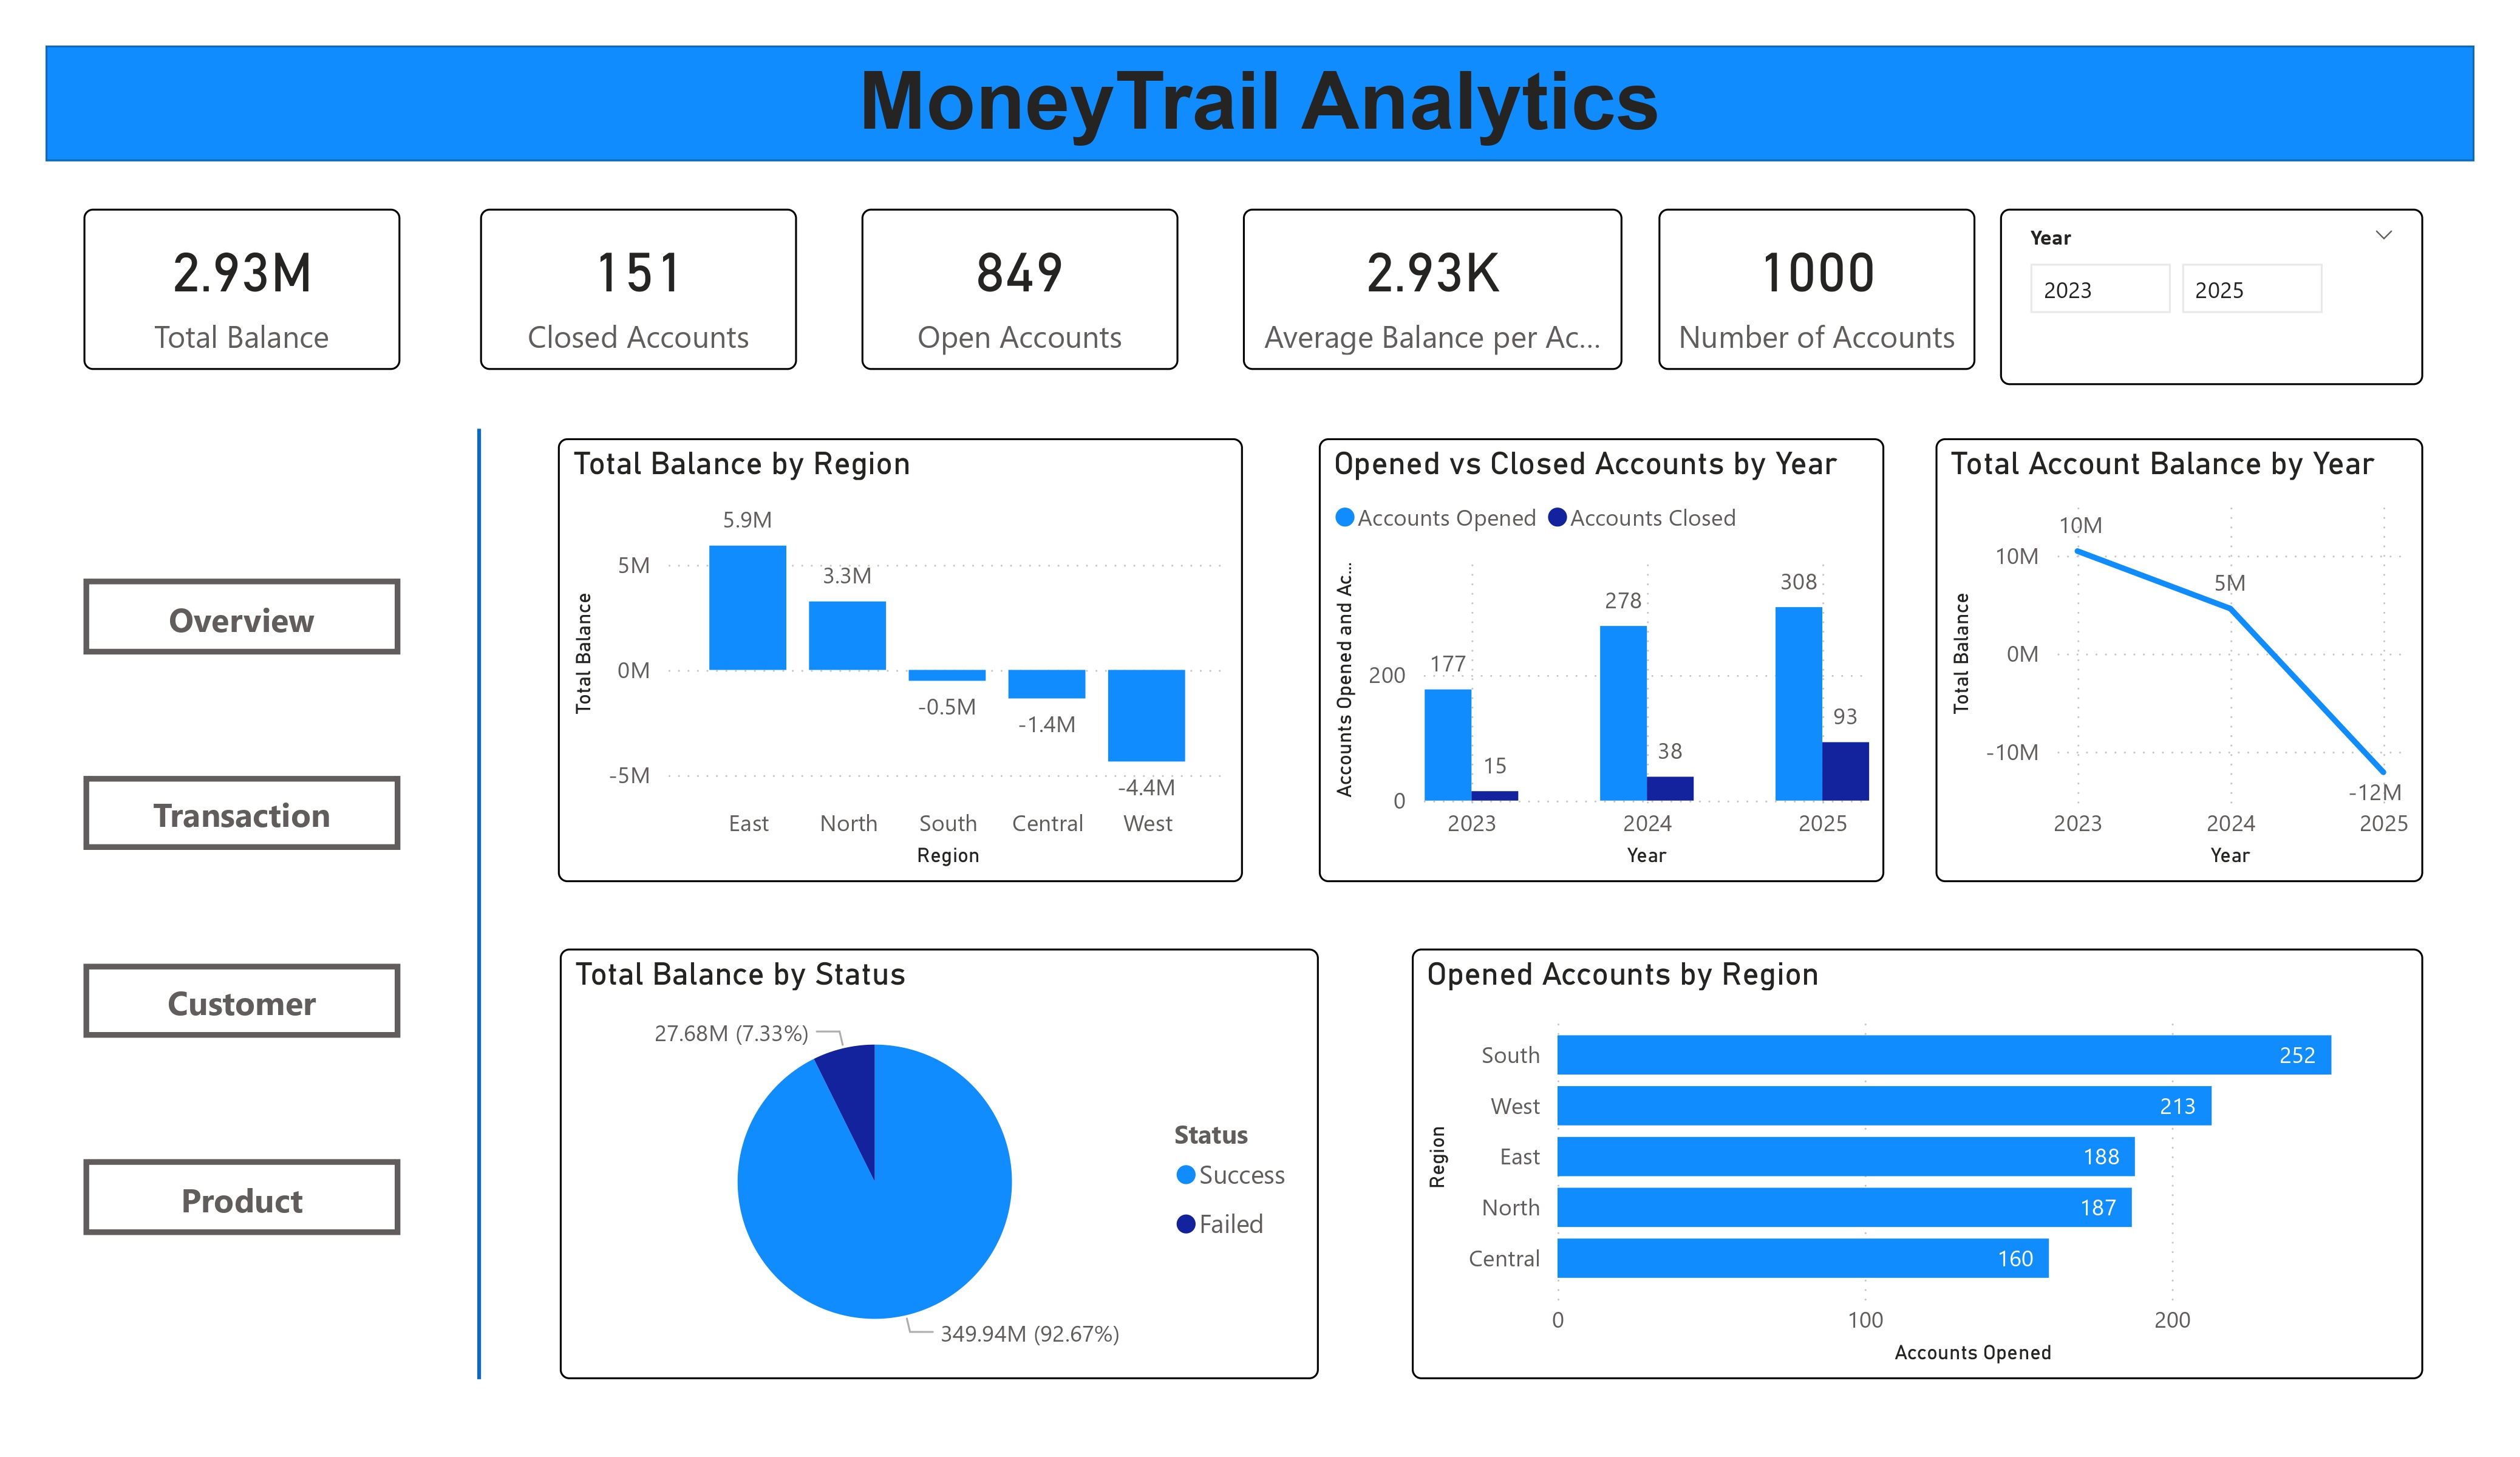

What the dashboard file says about the page in this screenshot:
{"tool":"powerbi","page":{"name":"Account Analysis","canvas":[1280,720],"ordinal":4},"visuals":[{"type":"card","fields":{"Values":["DimAccount.Number of Accounts"]},"box":[850,85.7,167.1,85.7],"z":0},{"type":"card","fields":{"Values":["DimAccount.Open Accounts"]},"box":[430,85.7,167.1,85.7],"z":1000},{"type":"card","fields":{"Values":["DimAccount.Closed Accounts"]},"box":[228.6,85.7,167.1,85.7],"z":2000},{"type":"card","fields":{"Values":["DimAccount.Total Balance"]},"box":[20,85.7,167.1,85.7],"z":3000},{"type":"card","fields":{"Values":["DimAccount.Average Balance per Account"]},"box":[631.4,85.7,200,85.7],"z":4000},{"type":"clusteredColumnChart","title":"Total Balance by Region","fields":{"Category":["DimCustomer.Region"],"Y":["DimAccount.Total Balance"]},"box":[270,207.1,361.4,234.3],"z":5000},{"type":"pieChart","title":"Total Balance by Status","fields":{"Category":["FactTransaction.Status"],"Y":["Sum(FactTransaction.Amount)"]},"box":[271.4,475.7,400,227.1],"z":6000},{"type":"clusteredColumnChart","title":"Opened vs Closed Accounts by Year","fields":{"Category":["DimCalendar.Year"],"Y":["DimAccount.Accounts Opened","DimAccount.Accounts Closed"]},"box":[671.4,207.1,297.1,234.3],"z":7000},{"type":"lineChart","title":"Total Account Balance by Year","fields":{"Category":["DimCalendar.Year"],"Y":["DimAccount.Total Balance"]},"box":[995.7,207.1,257.1,234.3],"z":8000},{"type":"clusteredBarChart","title":"Opened Accounts by Region","fields":{"Category":["DimCustomer.Region"],"Y":["DimAccount.Accounts Opened"]},"box":[720,475.7,532.9,227.1],"z":9000},{"type":"shape","box":[0,0,1280,61],"z":10000},{"type":"actionButton","box":[19.8,384.9,167.4,39.5],"z":11000},{"type":"actionButton","box":[19.8,281.4,167.4,39.5],"z":12000},{"type":"actionButton","box":[19.8,483.7,167.4,39.5],"z":13000},{"type":"actionButton","box":[19.8,587.2,167.4,39.5],"z":14000},{"type":"shape","box":[218.6,202.3,19.8,501.2],"z":15000},{"type":"slicer","fields":{"Values":["DimCalendar.Year"]},"box":[1030,85.7,222.9,92.9],"z":16000},{"type":"textbox","box":[0,0,1280,61.4],"z":16001}]}

Visuals, with their boxes on the page's 1280x720 design canvas (x1, y1, x2, y2). These are canvas units, not pixel positions in the 2520x1457 screenshot, which may show the page scaled, cropped or inside an application window:
card - DimAccount.Number of Accounts: select_region(850, 86, 1017, 171)
card - DimAccount.Open Accounts: select_region(430, 86, 597, 171)
card - DimAccount.Closed Accounts: select_region(229, 86, 396, 171)
card - DimAccount.Total Balance: select_region(20, 86, 187, 171)
card - DimAccount.Average Balance per Account: select_region(631, 86, 831, 171)
"Total Balance by Region" clusteredColumnChart: select_region(270, 207, 631, 441)
"Total Balance by Status" pieChart: select_region(271, 476, 671, 703)
"Opened vs Closed Accounts by Year" clusteredColumnChart: select_region(671, 207, 968, 441)
"Total Account Balance by Year" lineChart: select_region(996, 207, 1253, 441)
"Opened Accounts by Region" clusteredBarChart: select_region(720, 476, 1253, 703)
shape: select_region(0, 0, 1280, 61)
actionButton: select_region(20, 385, 187, 424)
actionButton: select_region(20, 281, 187, 321)
actionButton: select_region(20, 484, 187, 523)
actionButton: select_region(20, 587, 187, 627)
shape: select_region(219, 202, 238, 704)
slicer - DimCalendar.Year: select_region(1030, 86, 1253, 179)
textbox: select_region(0, 0, 1280, 61)
